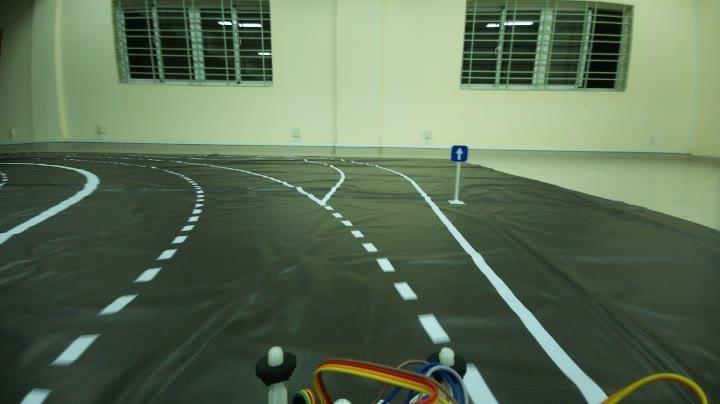onewayroad: (446, 142, 472, 166)
